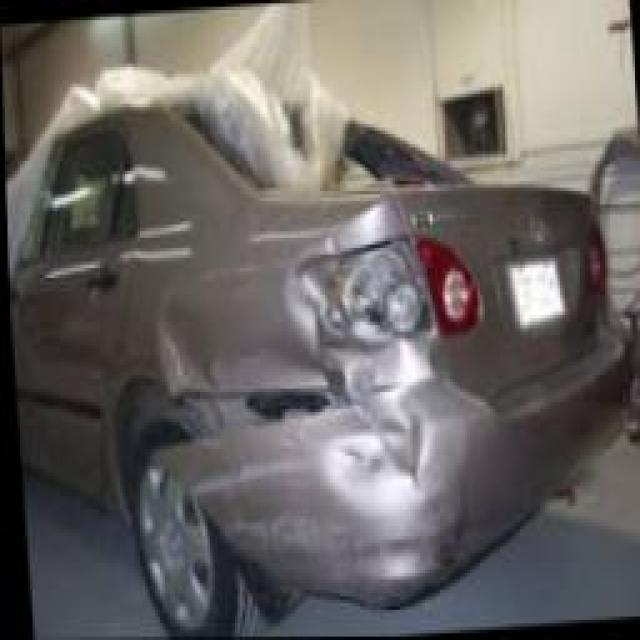rapairable: (302, 368, 477, 588), (158, 276, 239, 387)
replaceable: (292, 252, 467, 340)
